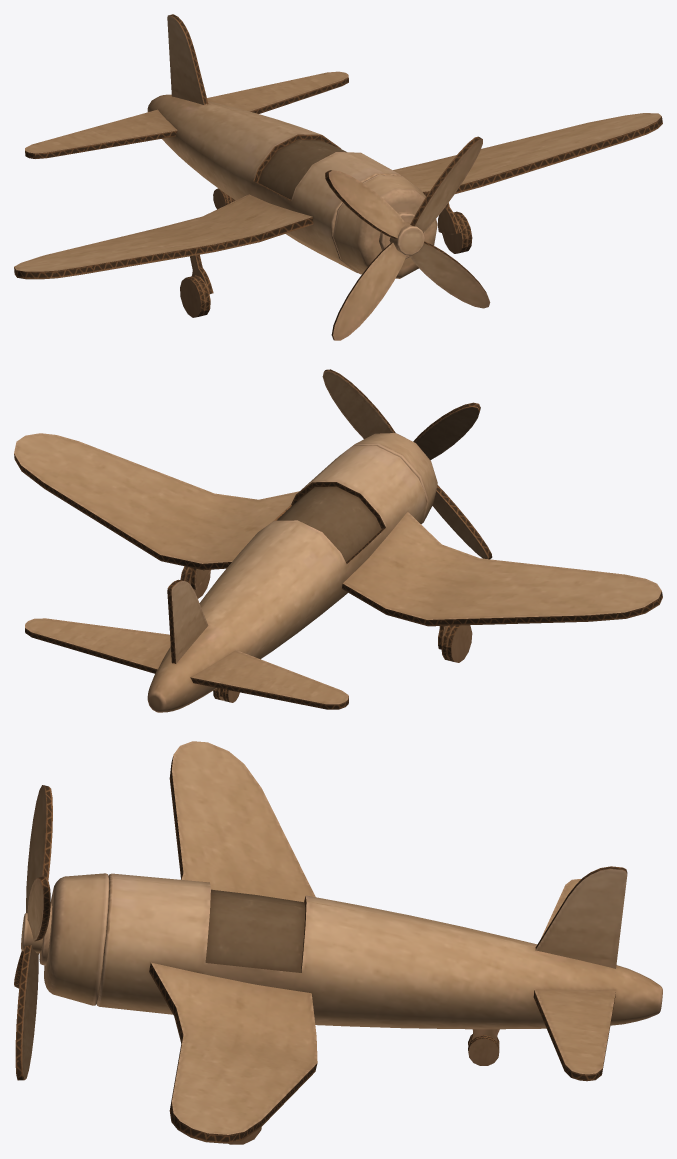
Rendered from PA_prp_FeiJi_zk_mod_V001.fbx.
3 renders of one model, top to bottom at view 1: azimuth 30°, elevation 25°; view 2: azimuth 150°, elevation 25°; view 3: azimuth 270°, elevation 25°, orthographic. The views are drawn at different scales.
Visible parts, largest first — view 1: jishen1, b, luoxuanjiang, b1, b2, lunzi_1, a1; view 2: b, jishen1, b1, luoxuanjiang, b2, lunzi_1; view 3: jishen1, b, b2, b1, luoxuanjiang, lunz_2.
Boxes of the visible parts, bbox=[...] form: jishen1: bbox=[147, 94, 437, 278]; b: bbox=[14, 113, 662, 279]; luoxuanjiang: bbox=[325, 136, 490, 340]; b1: bbox=[25, 71, 348, 158]; b2: bbox=[167, 14, 208, 104]; lunzi_1: bbox=[180, 211, 472, 317]; a1: bbox=[190, 202, 460, 293]; b: bbox=[14, 433, 662, 626]; jishen1: bbox=[147, 433, 437, 712]; b1: bbox=[25, 618, 348, 709]; luoxuanjiang: bbox=[322, 369, 492, 559]; b2: bbox=[167, 579, 208, 663]; lunzi_1: bbox=[180, 566, 472, 662]; jishen1: bbox=[21, 873, 662, 1029]; b: bbox=[149, 741, 317, 1143]; b2: bbox=[535, 866, 627, 968]; b1: bbox=[533, 879, 615, 1081]; luoxuanjiang: bbox=[14, 785, 52, 1080]; lunz_2: bbox=[468, 1034, 499, 1065].
Size of the model in its own units: 564 by 156 by 395.
Materials: 2 (2 with a texture image).
